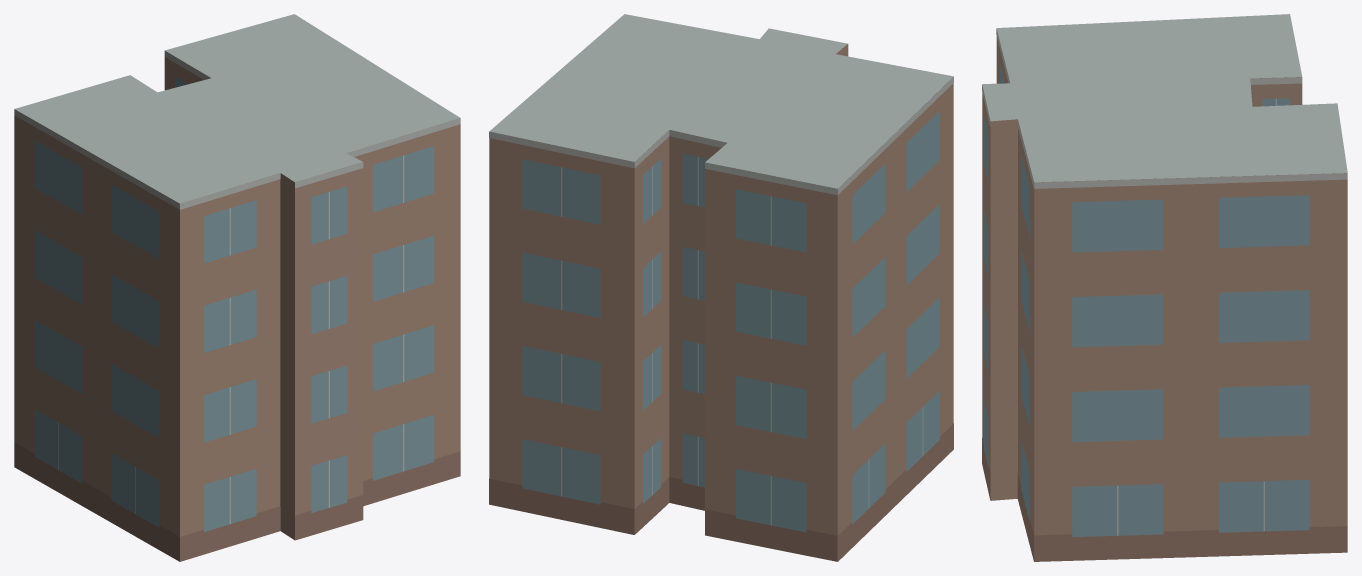
File: survey-upis-32770694.glb
3 renders of one model, left to right at view 1: azimuth 30°, elevation 25°; view 2: azimuth 150°, elevation 25°; view 3: azimuth 270°, elevation 25°, orthographic. The views are drawn at different scales.
Visible parts, largest first — view 1: survey-upis-32770694.tmp; view 2: survey-upis-32770694.tmp; view 3: survey-upis-32770694.tmp.
Part boxes in pixels (left/top/right/bottom): survey-upis-32770694.tmp: left=14, top=14, right=460, bottom=561; survey-upis-32770694.tmp: left=489, top=14, right=953, bottom=561; survey-upis-32770694.tmp: left=982, top=14, right=1347, bottom=561.
Size of the model in its own units: 13.42 by 14.1 by 12.32.
